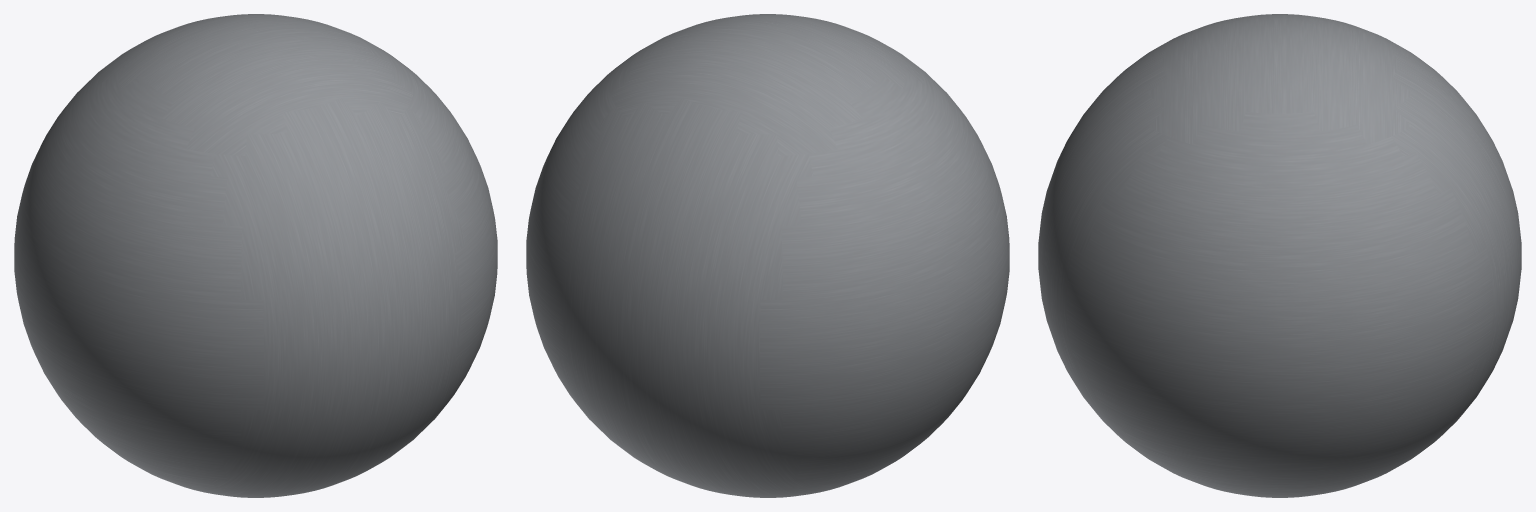
Rendered from ball-p-un.FBX.
The picture shows the model from 3 angles, left to right: view 1: azimuth 30°, elevation 25°; view 2: azimuth 150°, elevation 25°; view 3: azimuth 270°, elevation 25°; orthographic projection.
Parts seen in each view (by area): view 1: Ball_p; view 2: Ball_p; view 3: Ball_p.
Part boxes in pixels (x1,y1,x2,y2): Ball_p: [14, 14, 497, 497]; Ball_p: [526, 14, 1009, 497]; Ball_p: [1038, 14, 1521, 497].
Bounding box in the file's own units: 63.45 × 63.53 × 63.45.
1 material, 1 textured.
